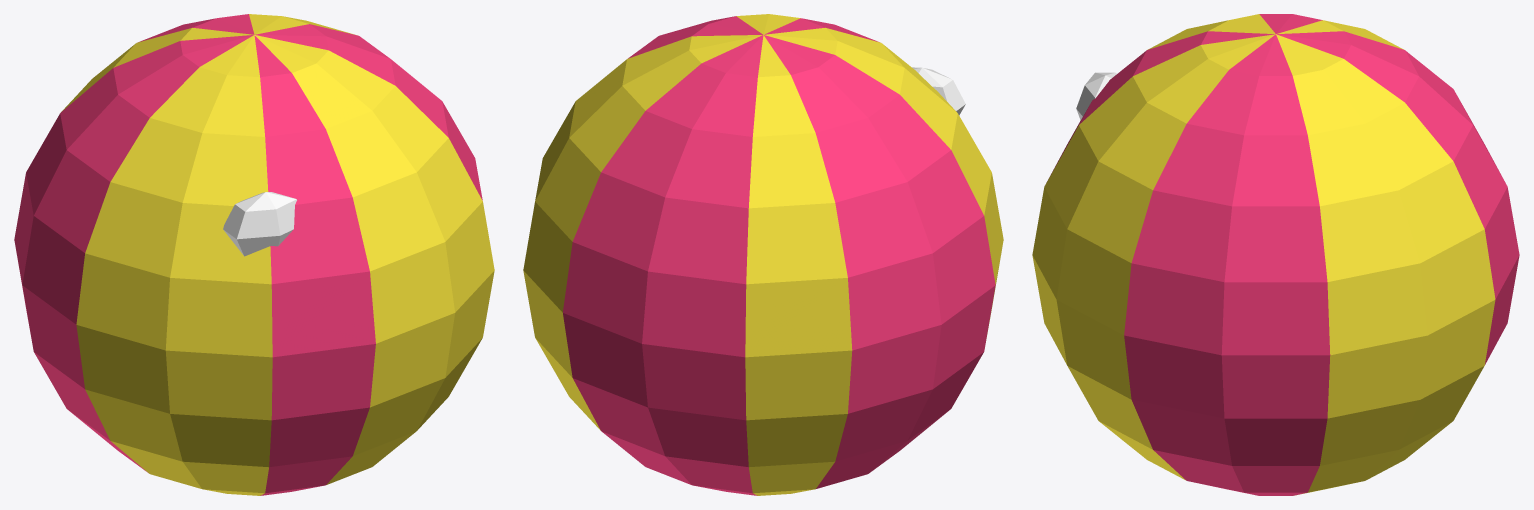
The model's file is s-leksak-studsboll-cc0.glb.
The picture shows the model from 3 angles, left to right: view 1: azimuth 30°, elevation 25°; view 2: azimuth 150°, elevation 25°; view 3: azimuth 270°, elevation 25°; orthographic projection.
Visible parts, largest first — view 1: studsboll; view 2: studsboll; view 3: studsboll.
Part boxes in pixels (left/top/right/bottom): studsboll: left=14, top=14, right=494, bottom=495; studsboll: left=523, top=14, right=1003, bottom=495; studsboll: left=1032, top=14, right=1519, bottom=495.
Bounding box in the file's own units: 0.195 × 0.2 × 0.2.
